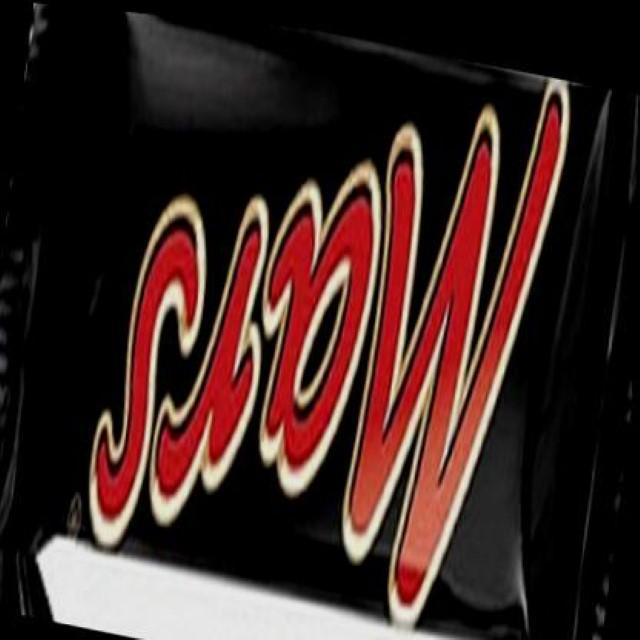mars_chocolate: (10, 18, 640, 640)
